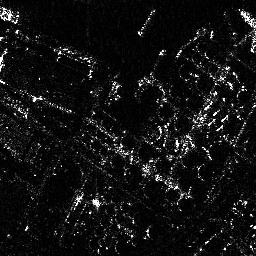ship: (137, 7, 156, 36)
